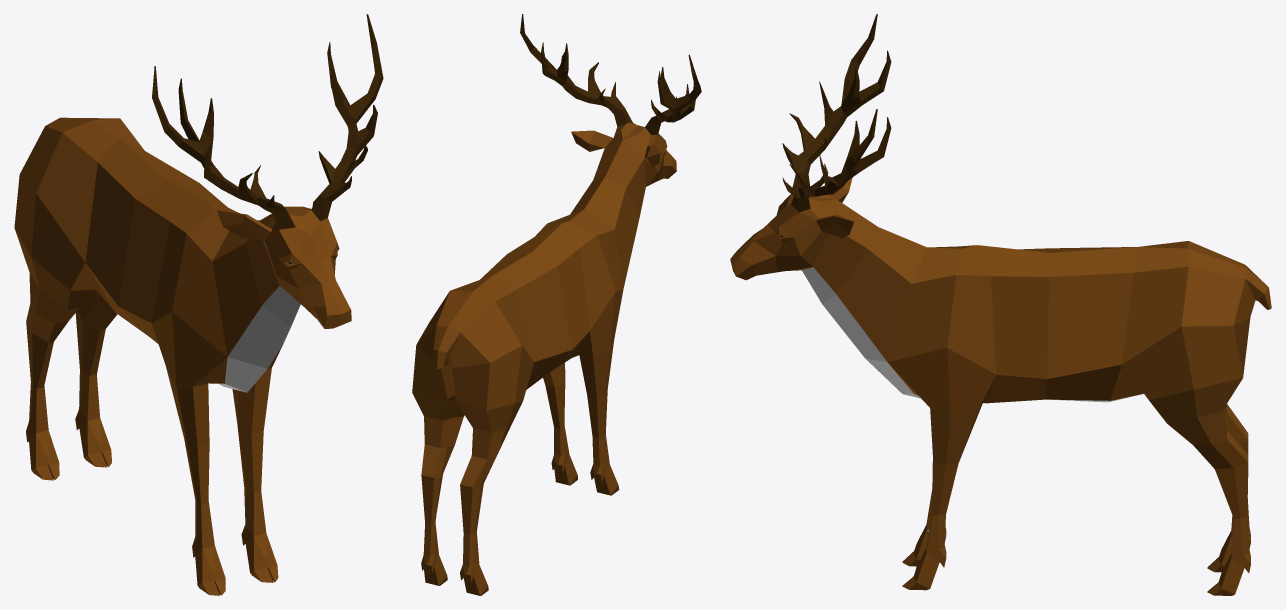
File: Deer_stand.fbx
3 views of the same model, side by side, from view 1: azimuth 30°, elevation 25°; view 2: azimuth 150°, elevation 25°; view 3: azimuth 270°, elevation 25° (orthographic). The views are drawn at different scales.
Visible parts, largest first — view 1: Deer; view 2: Deer; view 3: Deer.
Boxes of the visible parts, x1,y1,x2,y2 form: Deer: (14, 14, 383, 595); Deer: (412, 14, 701, 595); Deer: (730, 14, 1271, 595).
Size of the model in its own units: 94.33 by 227 by 214.
